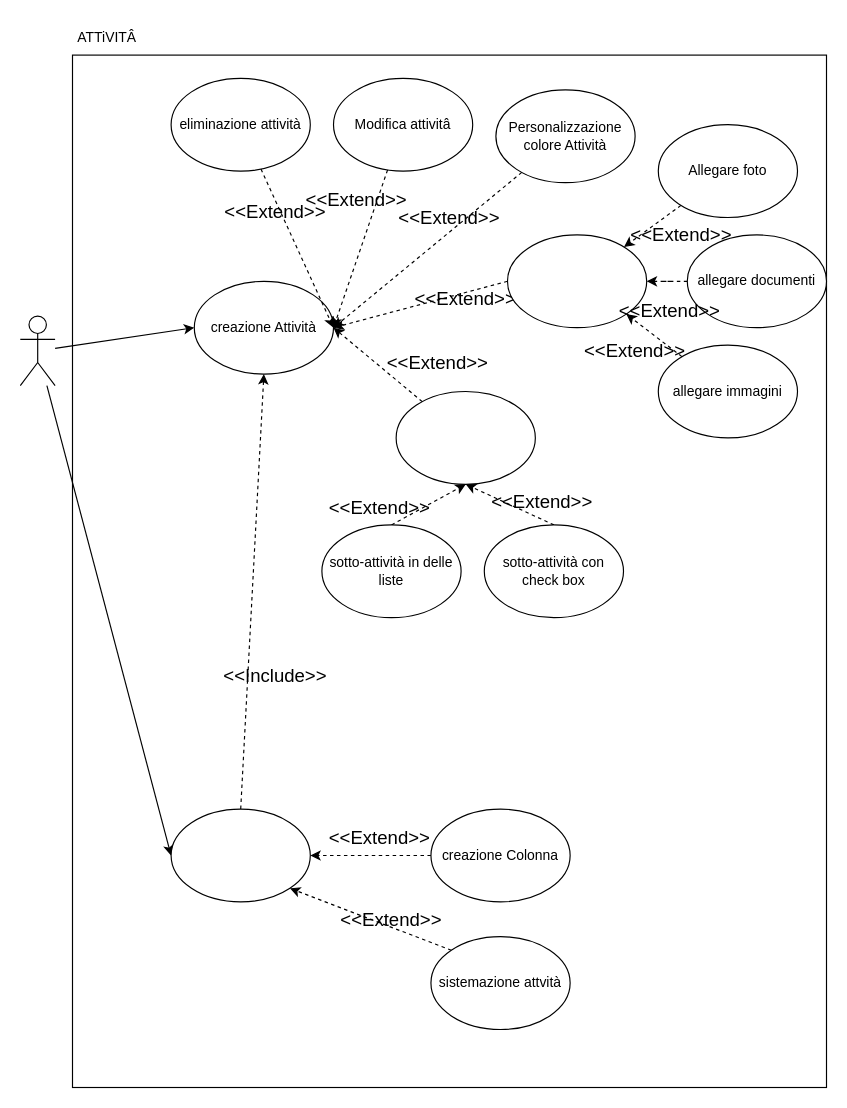
This 847x1108 diagram has some shape labels left out. The centre of each missing label's shape, as x and y in pixels:
Actor: the point at 37,350
Allegazione file: the point at 576,281
creazioni sotto-attività: the point at 465,437
Organizzare attività in colonne: the point at 240,855
